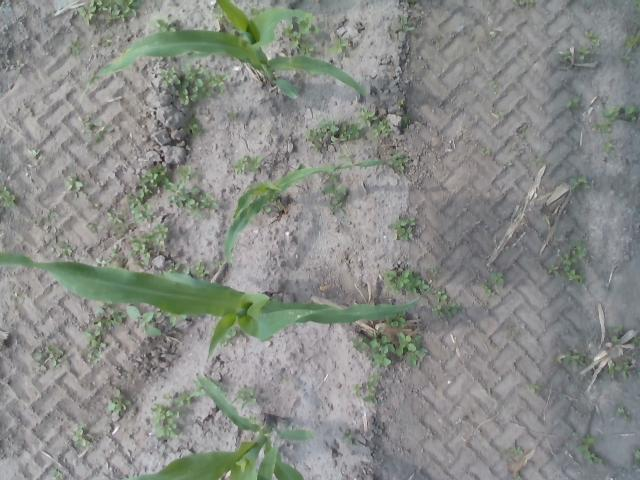Maize: (1, 252, 436, 360), (80, 0, 368, 100), (122, 374, 316, 480), (224, 152, 401, 261)
Weeds: (126, 163, 222, 226), (157, 61, 235, 106), (147, 386, 205, 444), (84, 301, 126, 364), (542, 238, 588, 284), (304, 116, 364, 150), (350, 326, 396, 370), (130, 222, 169, 272), (76, 0, 141, 28), (285, 12, 322, 55), (32, 342, 68, 380), (395, 330, 430, 368), (126, 304, 164, 338), (79, 113, 118, 146), (381, 269, 429, 295), (36, 232, 76, 259), (430, 287, 461, 320), (352, 372, 383, 405), (35, 206, 66, 236), (104, 386, 130, 420), (552, 348, 592, 370), (323, 179, 348, 213), (68, 422, 94, 454), (578, 431, 602, 465), (96, 243, 128, 268), (228, 154, 262, 176), (151, 9, 179, 33), (66, 173, 89, 202), (389, 218, 415, 242), (482, 270, 505, 297), (328, 34, 352, 59), (234, 386, 258, 410), (389, 151, 414, 174), (0, 184, 18, 209), (370, 118, 392, 138), (384, 314, 410, 330), (166, 312, 190, 329), (568, 176, 592, 192), (167, 260, 190, 276), (601, 104, 621, 122), (504, 322, 522, 342), (614, 404, 632, 424), (357, 107, 377, 125), (86, 218, 106, 236), (69, 36, 87, 56), (399, 16, 417, 36), (106, 206, 124, 224), (185, 117, 202, 136), (499, 444, 522, 458), (193, 260, 210, 278), (212, 7, 228, 26), (226, 326, 242, 344), (584, 29, 600, 47), (590, 121, 612, 134), (609, 326, 624, 344), (625, 33, 640, 51), (624, 105, 638, 123), (336, 150, 354, 164), (429, 34, 444, 50), (616, 360, 630, 377), (566, 95, 580, 109), (273, 198, 287, 212), (514, 122, 528, 136), (49, 467, 64, 480), (576, 47, 591, 60), (603, 138, 615, 154), (342, 429, 354, 445), (632, 446, 640, 470), (101, 36, 115, 49), (401, 112, 413, 126), (113, 224, 128, 235), (12, 59, 24, 72), (528, 381, 539, 395), (28, 148, 42, 159), (518, 0, 540, 7), (93, 201, 105, 213), (250, 8, 268, 16), (212, 259, 226, 269), (231, 106, 241, 120), (604, 363, 614, 374), (430, 268, 441, 278), (394, 100, 406, 108), (482, 146, 492, 155), (561, 52, 572, 60), (534, 154, 542, 164), (488, 30, 498, 38), (633, 336, 640, 347), (264, 205, 273, 213), (635, 0, 640, 12), (620, 56, 632, 61), (635, 15, 640, 26), (489, 80, 498, 86), (542, 214, 549, 220), (498, 110, 505, 116), (404, 0, 417, 3)
